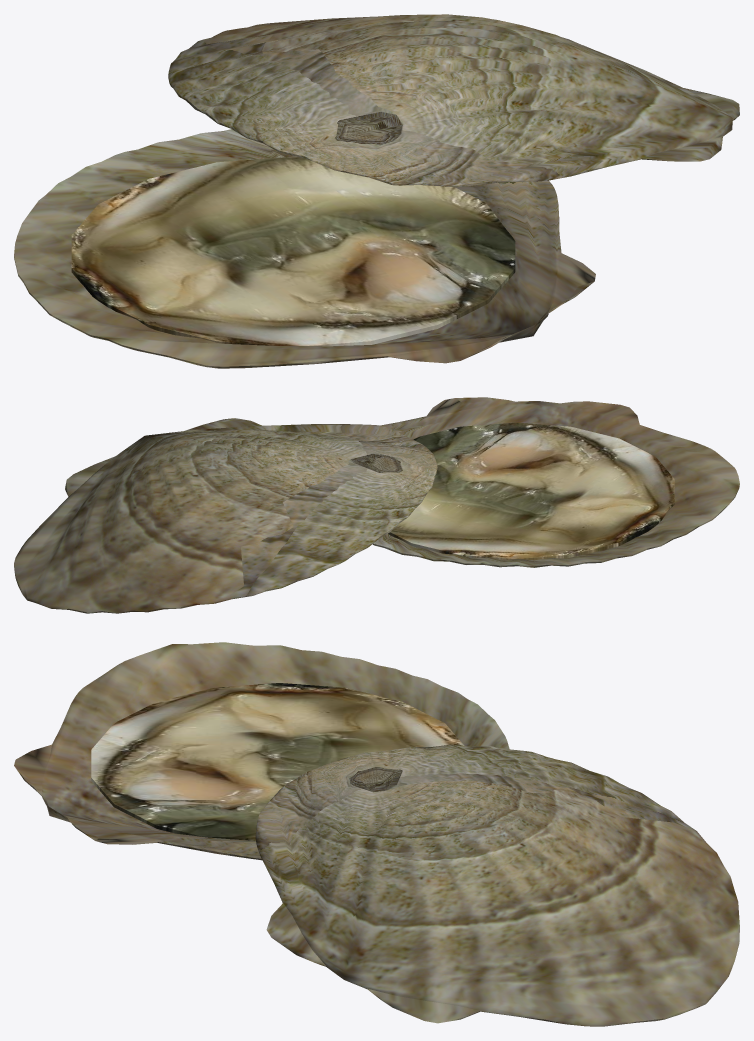
File: auster.FBX
3 views of the same model, one above another, from view 1: azimuth 30°, elevation 25°; view 2: azimuth 150°, elevation 25°; view 3: azimuth 270°, elevation 25° (orthographic). The views are drawn at different scales.
Parts seen in each view (by area): view 1: shell2, Cylinder001, shell1; view 2: shell2, Cylinder001, shell1; view 3: shell2, Cylinder001, shell1.
Part boxes in pixels (x1,y1,x2,y2): shell2: (168,14,739,186); Cylinder001: (71,156,515,346); shell1: (14,129,595,368); shell2: (14,418,437,613); Cylinder001: (388,422,674,560); shell1: (372,397,739,567); shell2: (255,744,739,1026); Cylinder001: (91,683,464,840); shell1: (14,642,509,860).
Bounding box in the file's own units: 1507 × 254 × 1409.
